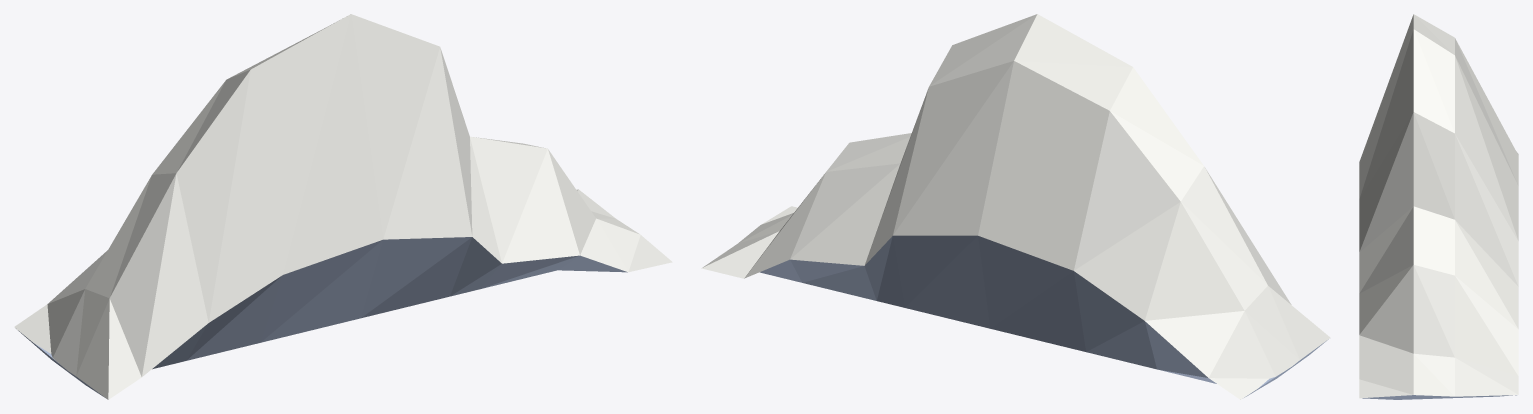
3 views of the same model, side by side, from view 1: azimuth 30°, elevation 25°; view 2: azimuth 150°, elevation 25°; view 3: azimuth 270°, elevation 25° (orthographic). The views are drawn at different scales.
Visible parts, largest first — view 1: 鼓起折面云团与淡蓝纸背.001; view 2: 鼓起折面云团与淡蓝纸背.001; view 3: 鼓起折面云团与淡蓝纸背.001.
Boxes of the visible parts, box(x1,y1,x2,y2) form: 鼓起折面云团与淡蓝纸背.001: box(14, 14, 672, 399); 鼓起折面云团与淡蓝纸背.001: box(701, 14, 1330, 399); 鼓起折面云团与淡蓝纸背.001: box(1359, 14, 1518, 399).
Size of the model in its own units: 1.52 by 0.765 by 0.44.
